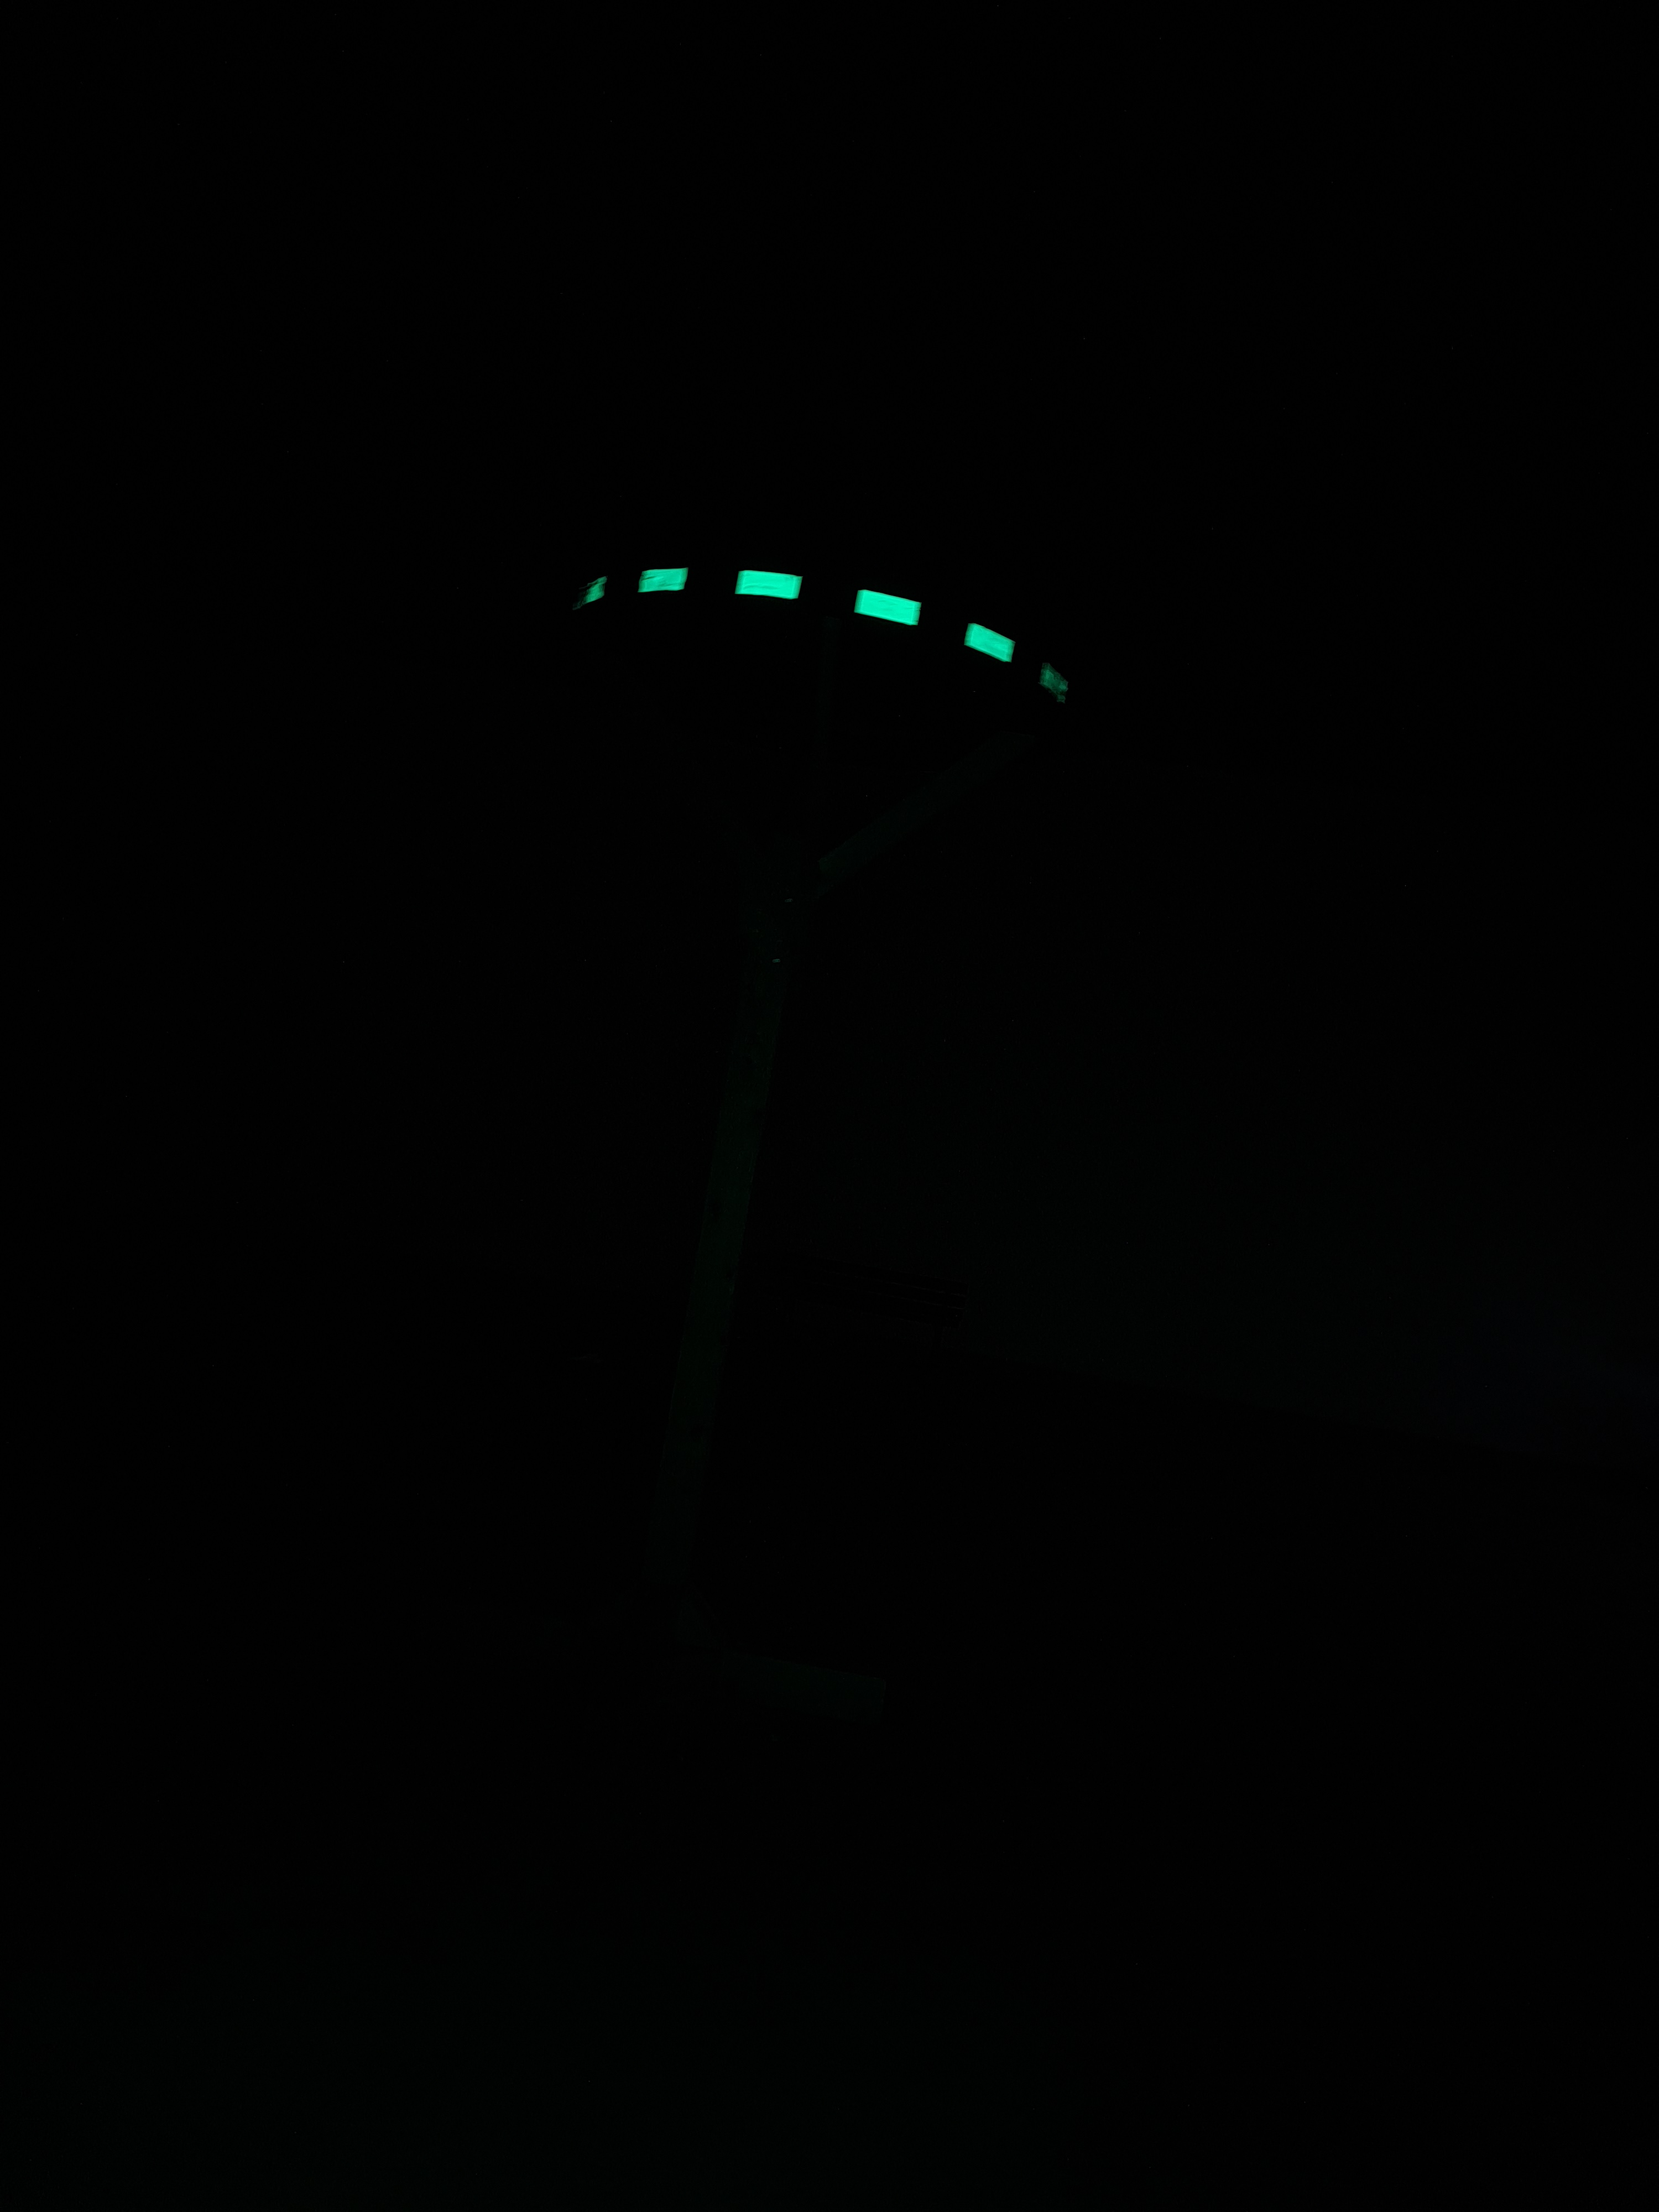hoop: (573, 552, 1068, 709)
